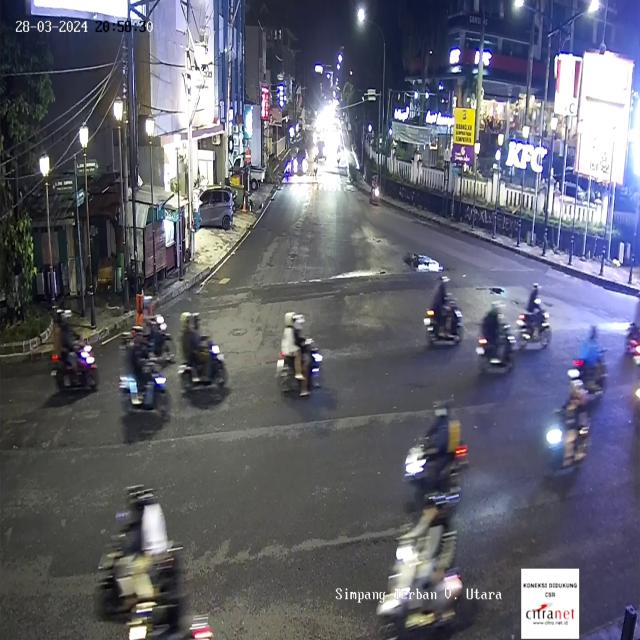car: (197, 189, 236, 233)
motorcycle: (378, 492, 464, 638), (97, 476, 177, 612), (402, 398, 468, 512), (541, 367, 590, 472), (119, 322, 169, 421), (47, 303, 99, 393), (180, 308, 228, 401), (277, 314, 322, 398), (422, 275, 464, 346), (477, 298, 514, 378), (570, 325, 606, 403), (515, 284, 551, 346)
